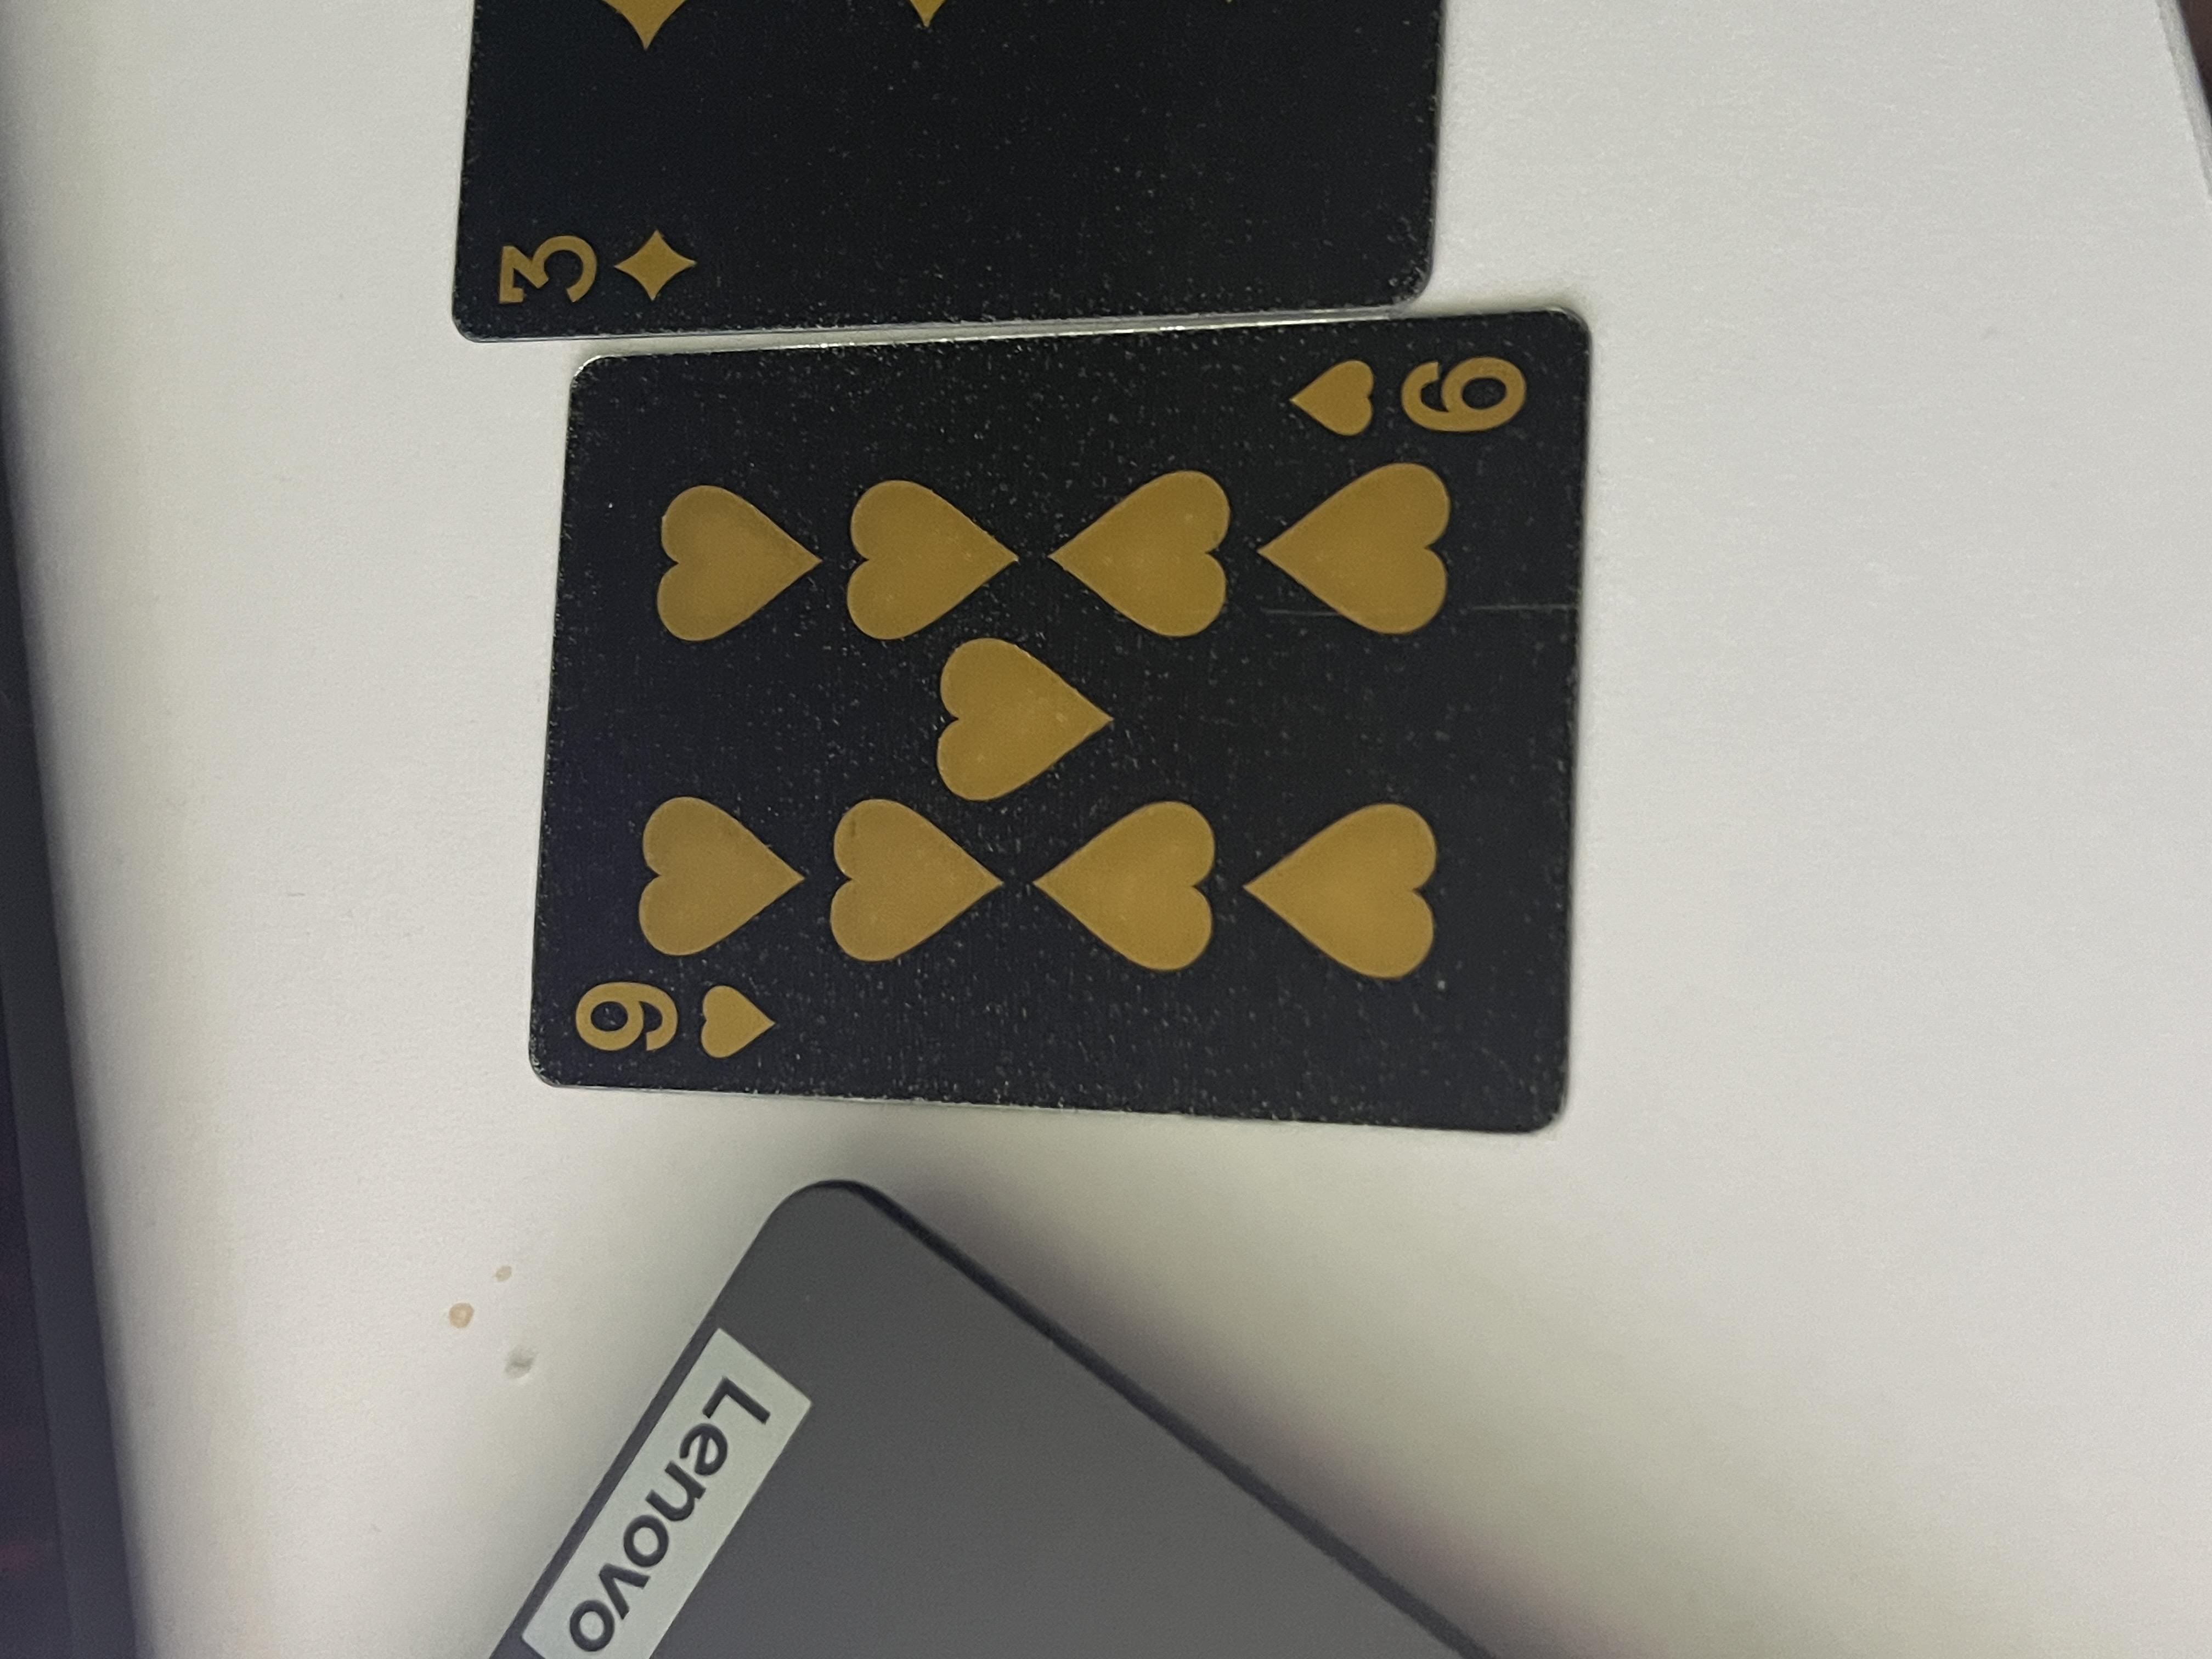3D: (1789, 361, 1932, 533)
9H: (1613, 950, 1773, 1155), (794, 420, 907, 586)
